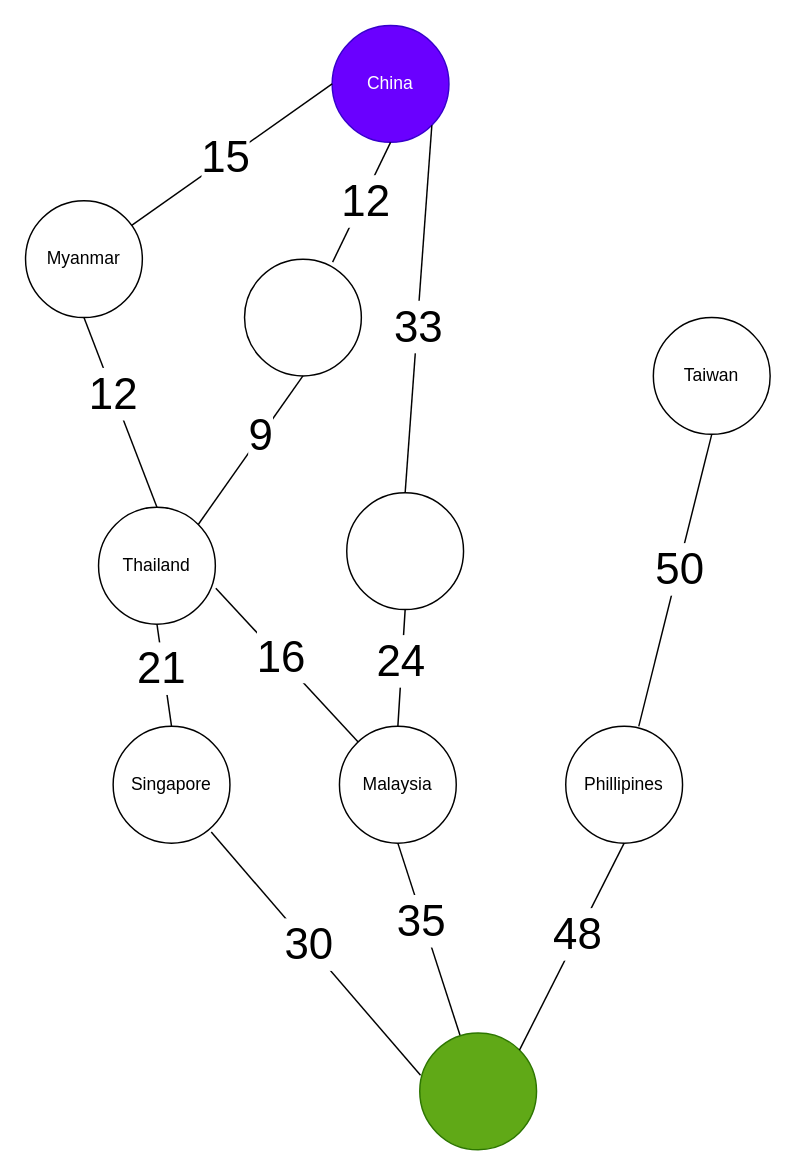
This 796x1175 diagram has some shape labels left out. Each missing label, with the centre of its shape:
"Indonesia" goes at (477,1090).
"Laos" goes at (302,317).
"Vietnam" goes at (404,550).
